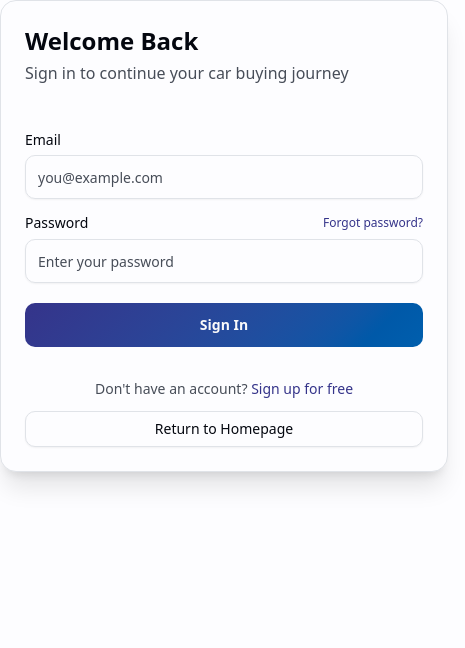
it: SignInForm — Frontend Behavioral Tests › Unverified user login › shows email verification required message and resend button
The width and height of the screenshot is (465, 648).
Type "unverified@example.com" into the field labelled "Email" at (224, 177), box [25,155,423,199]
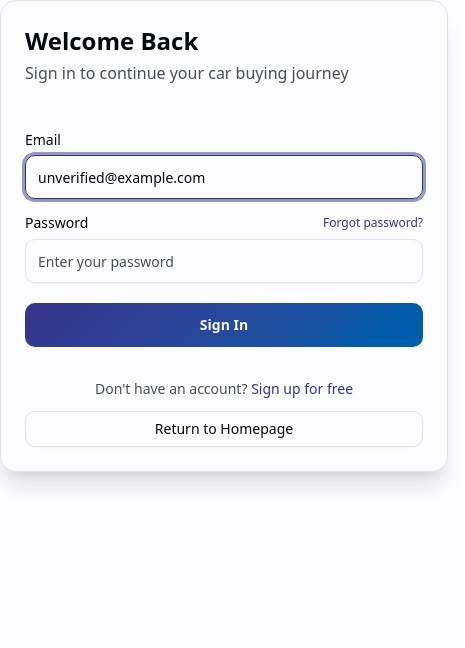
Type "password123" into the password field labelled "Password" at (224, 261), box [25,239,423,283]
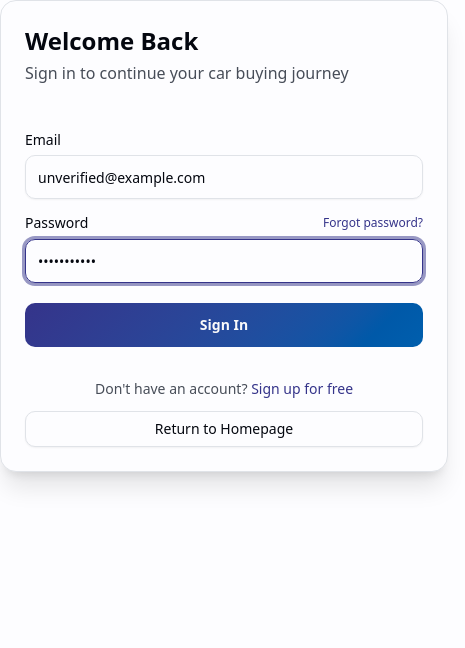
Click the button "Sign In" at (224, 325), box [25,303,423,347]
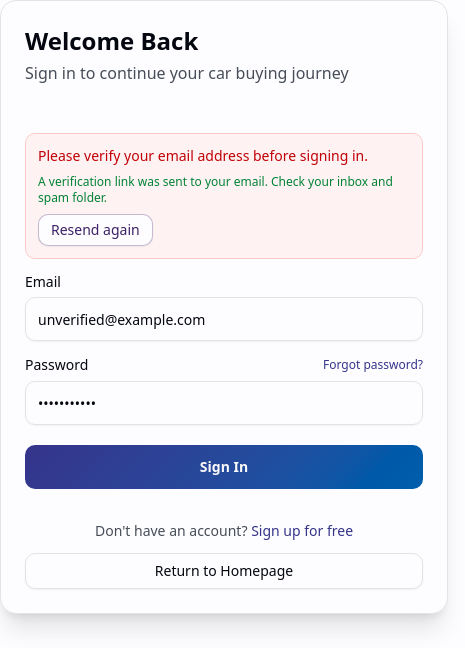
Expected: the text "verify your email" is shown, [38,146,368,165]
Expected: the button "Resend again" is shown, [38,214,153,246]
